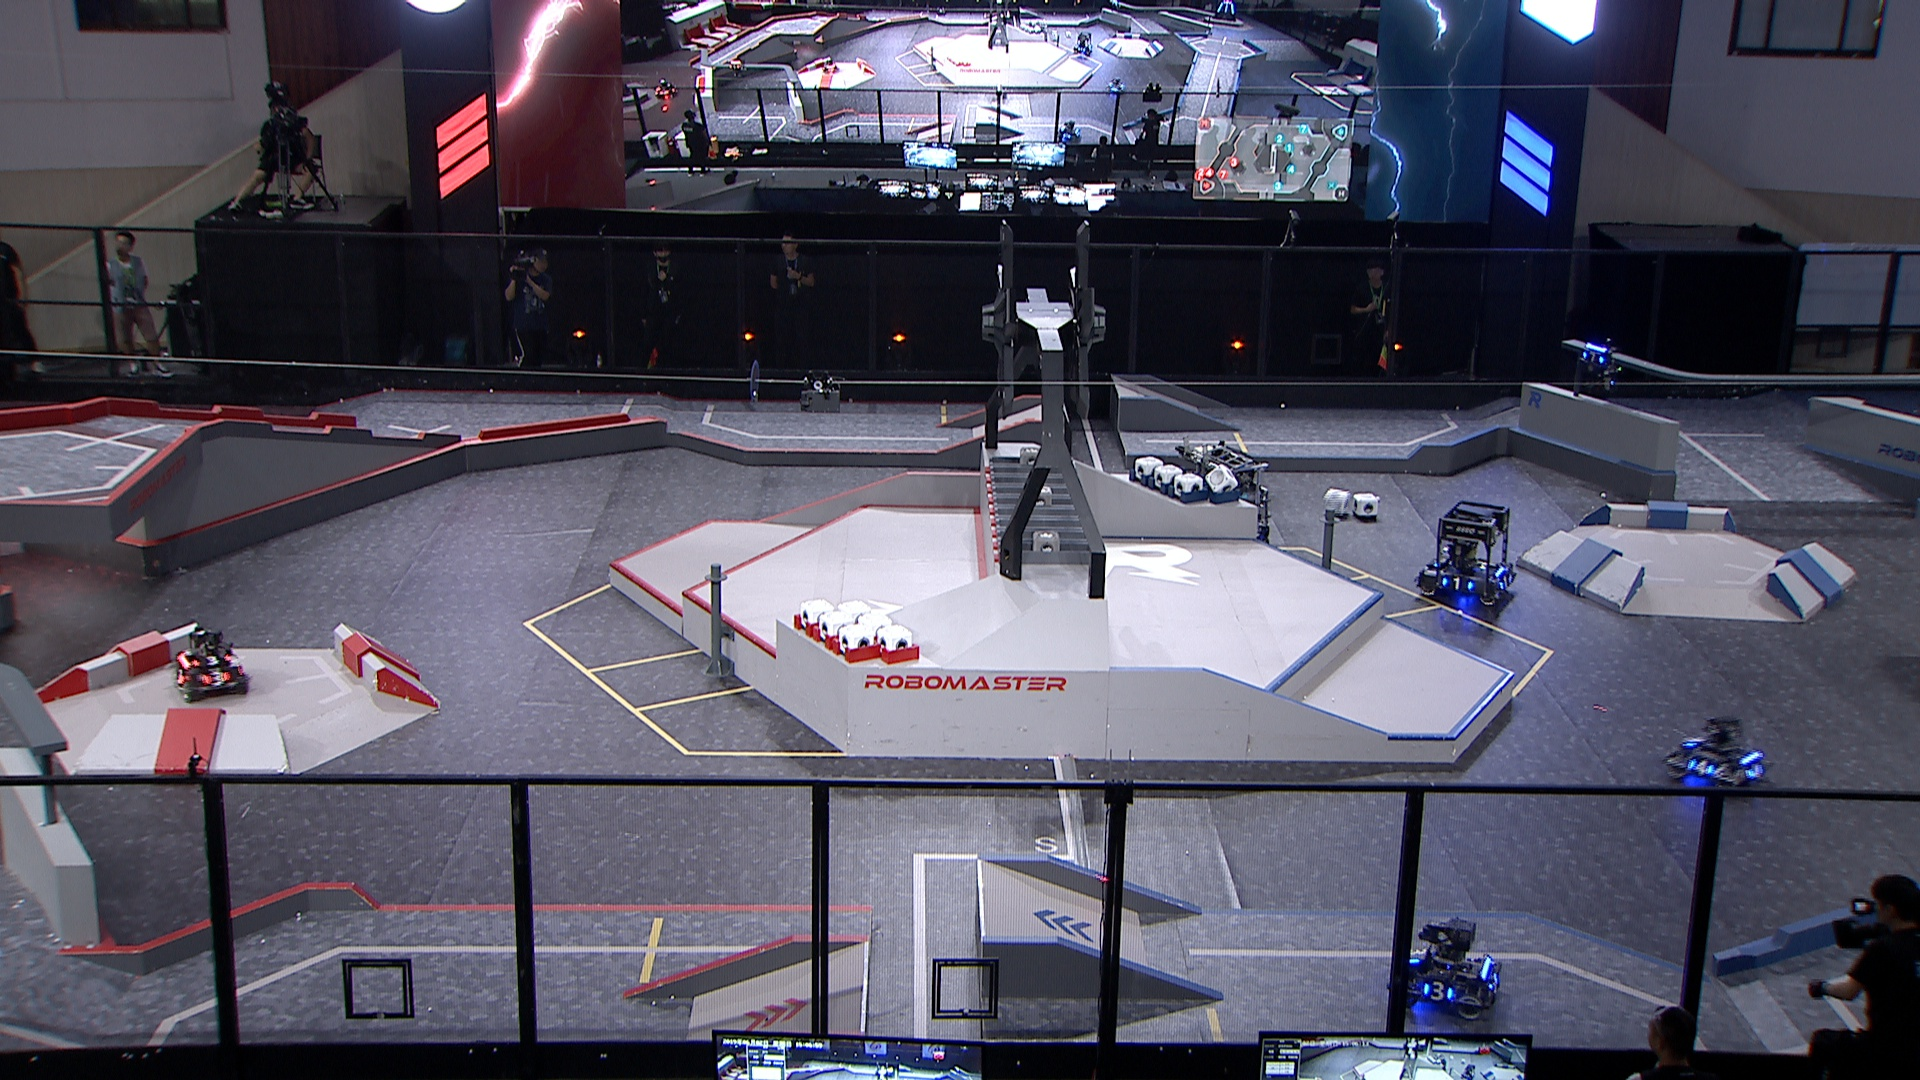armor: (1422, 978, 1455, 1004), (189, 654, 231, 669), (199, 669, 229, 687), (1437, 576, 1476, 591), (1685, 760, 1716, 777), (1406, 945, 1427, 968), (1681, 735, 1706, 752), (1747, 764, 1768, 783), (1581, 349, 1604, 365), (1489, 972, 1503, 996), (173, 669, 187, 687), (1499, 574, 1513, 591)
car: (1385, 916, 1505, 1021), (1411, 501, 1516, 608), (1172, 443, 1273, 551), (1662, 713, 1771, 794), (169, 626, 252, 702)
ignore: (1058, 120, 1083, 144), (1212, 0, 1238, 21), (1072, 32, 1093, 57), (655, 78, 678, 98), (1106, 76, 1126, 98), (728, 59, 746, 80)
watcher: (1578, 342, 1623, 390)
